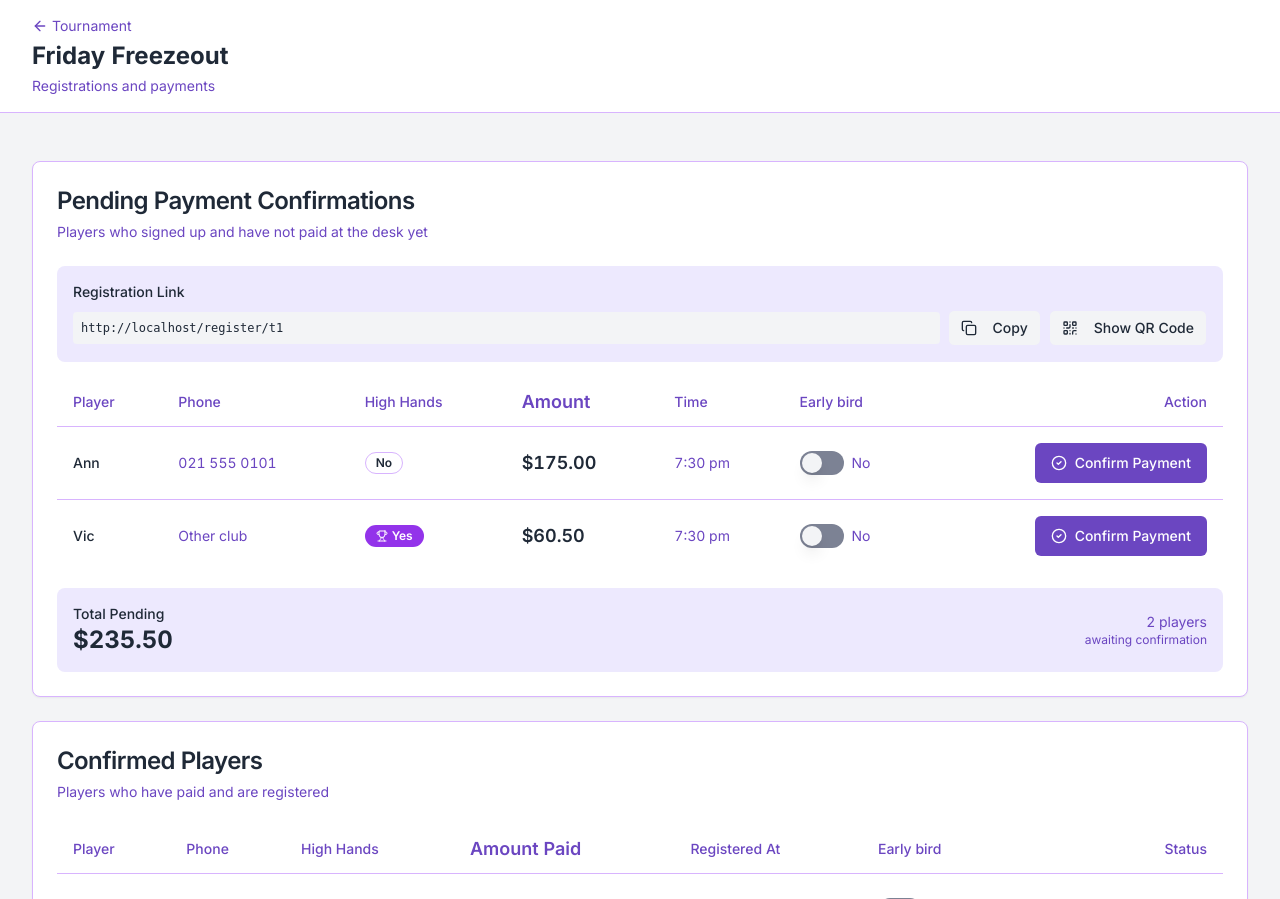
Scenario: AdminRegistrationsPage › says when the payment grew a high-hand pot whose every prize is already awarded (R6REV0-MONEY-01)
Click the button with test id "confirm-payment-r1" at point(1121, 462), box x1=1035 y1=442 x2=1207 y2=482
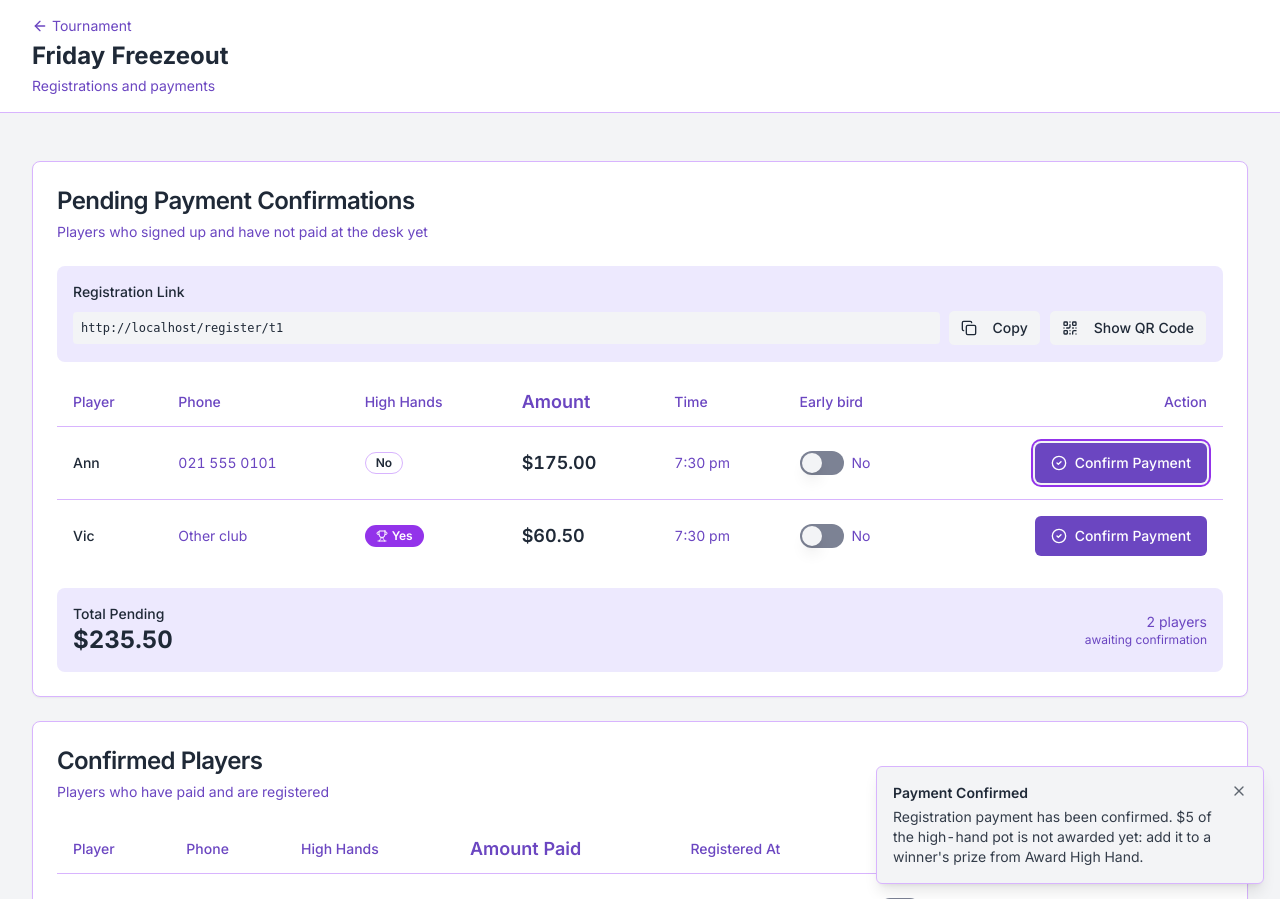
Check: the text "Registration payment has been confirmed. $5 of the high-hand pot is not awarded yet: add it to a winner's prize from Awa" is shown, box x1=893 y1=808 x2=1212 y2=865
